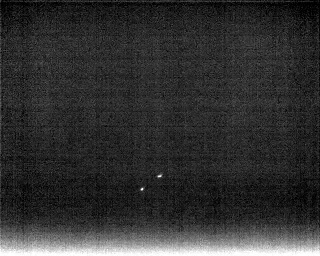BIRD: (155, 171, 165, 182)
